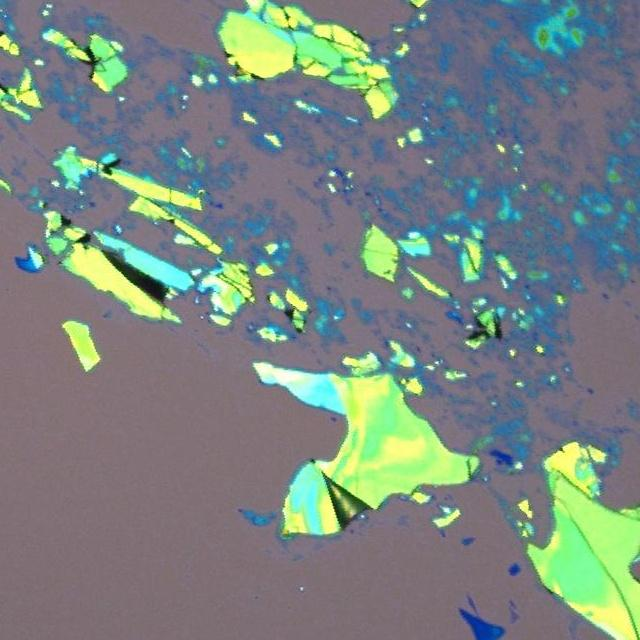monolayer-eWW4: (508, 606, 522, 624)
